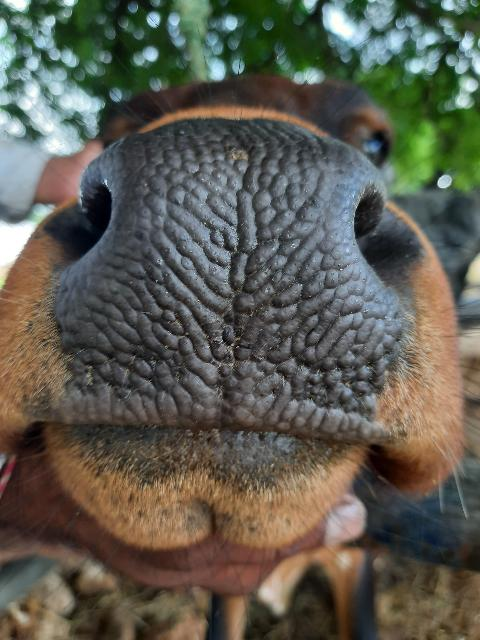Muzzle: (118, 139, 352, 431)
